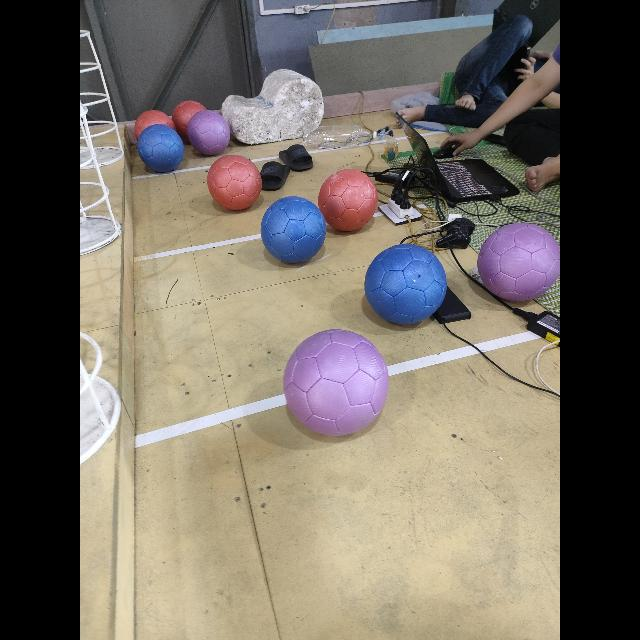B: (365, 244, 447, 324), (260, 195, 326, 262), (138, 124, 185, 172)
P: (284, 329, 388, 435), (478, 222, 560, 300), (187, 109, 231, 155)
R: (318, 169, 378, 231), (207, 154, 261, 210), (172, 100, 206, 142), (134, 109, 174, 141)
S: (80, 332, 121, 466)
